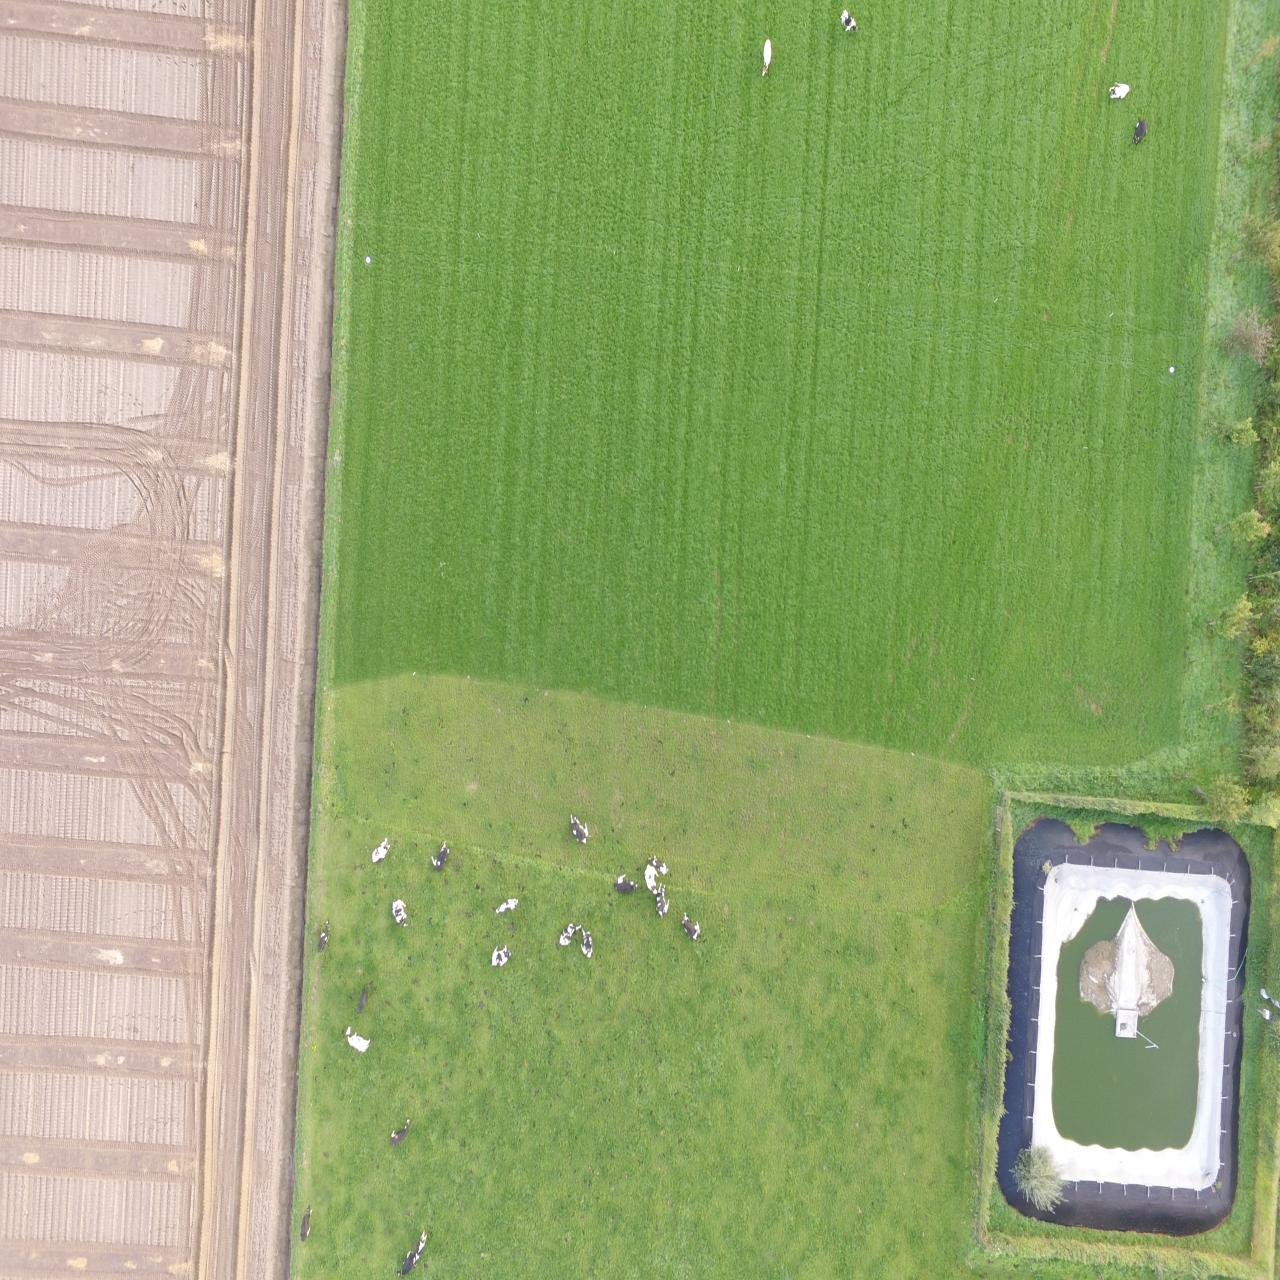cow: (345, 1024, 370, 1053), (568, 812, 590, 846), (681, 911, 702, 941), (388, 1118, 410, 1146), (558, 920, 581, 946), (356, 979, 373, 1014), (369, 837, 392, 863), (430, 840, 449, 871), (490, 942, 512, 967), (395, 1250, 417, 1274), (1108, 79, 1131, 101), (390, 898, 408, 927), (645, 862, 659, 897), (613, 873, 638, 893), (415, 1227, 429, 1260), (840, 8, 859, 33), (1132, 118, 1149, 145), (656, 884, 669, 918), (761, 39, 772, 75), (299, 1203, 309, 1242), (580, 928, 593, 959), (316, 919, 328, 952), (493, 898, 518, 913), (652, 855, 670, 874)
